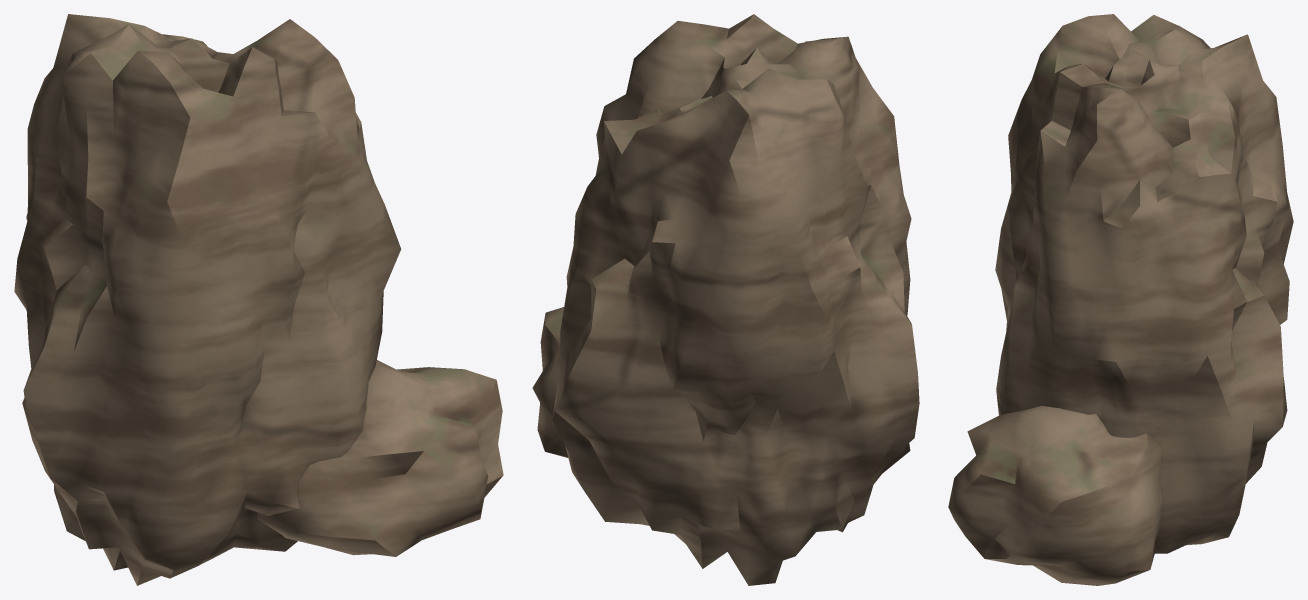
File: rock-c.fbx
3 views of the same model, side by side, from view 1: azimuth 30°, elevation 25°; view 2: azimuth 150°, elevation 25°; view 3: azimuth 270°, elevation 25° (orthographic). The views are drawn at different scales.
Visible parts, largest first — view 1: rock-c; view 2: rock-c; view 3: rock-c.
Part boxes in pixels (left/top/right/bottom): rock-c: left=14, top=14, right=503, bottom=585; rock-c: left=532, top=14, right=919, bottom=585; rock-c: left=948, top=14, right=1293, bottom=585.
Size of the model in its own units: 479 by 579 by 369.
1 material, 1 textured.
